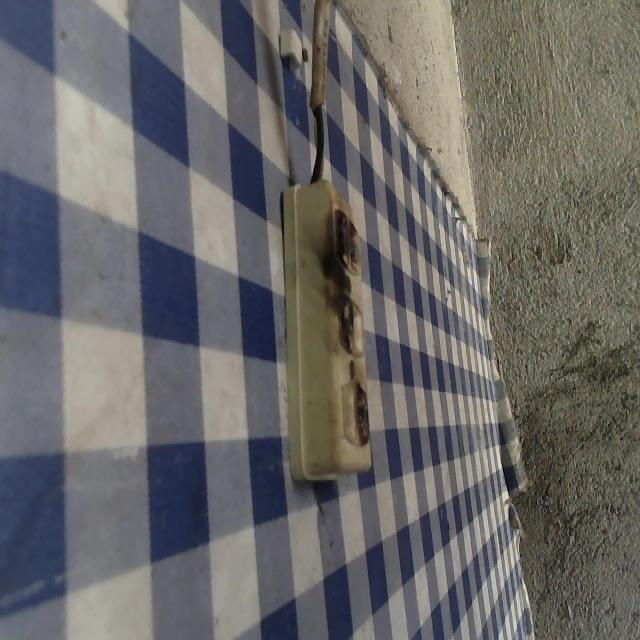-: (327, 201, 367, 283), (332, 284, 359, 356), (349, 378, 373, 450)
